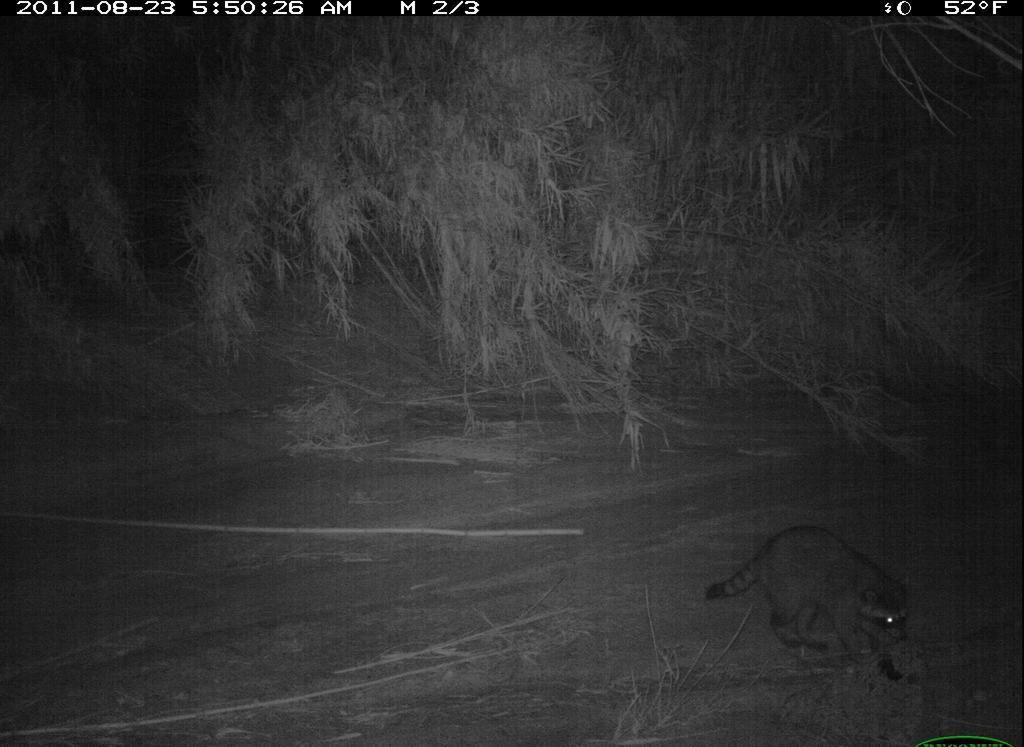raccoon: (699, 519, 923, 692)
